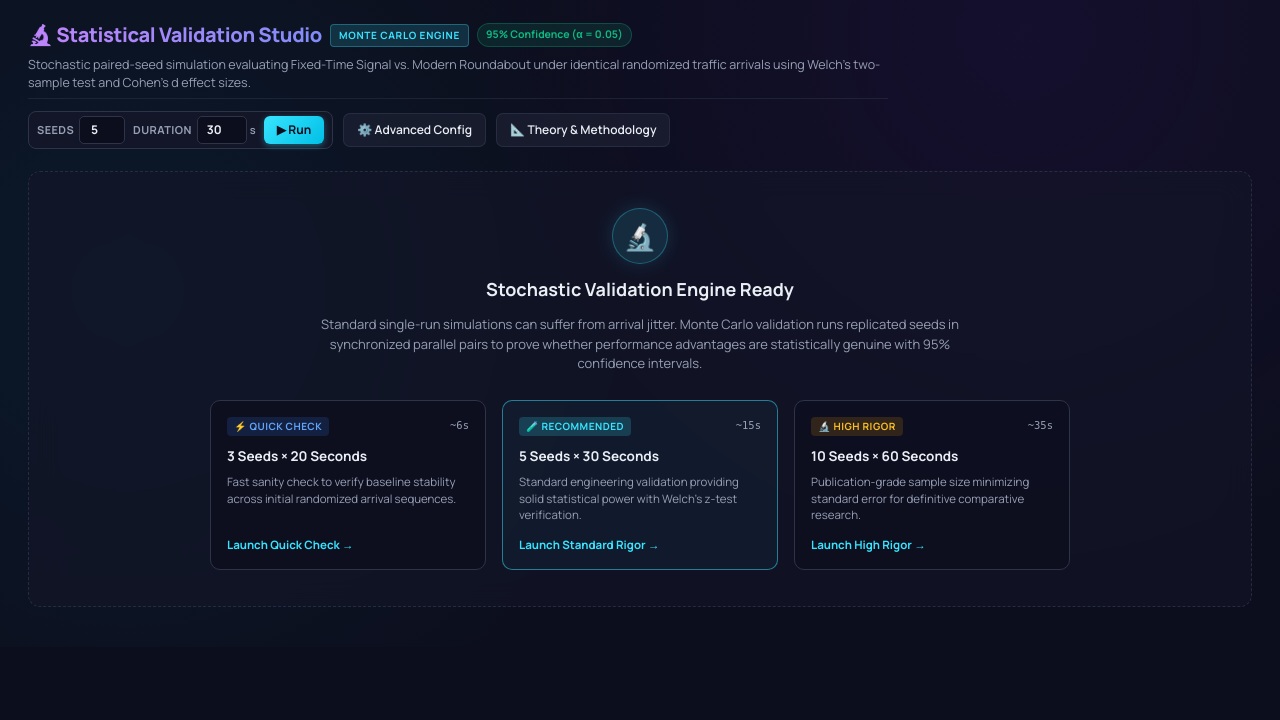
Test: ValidationDashboard › renders per-seed raw results table
This screenshot has width=1280, height=720.
Step 1. Click the button titled "Execute Monte Carlo validation" → (294,130), box [264,116,324,144]
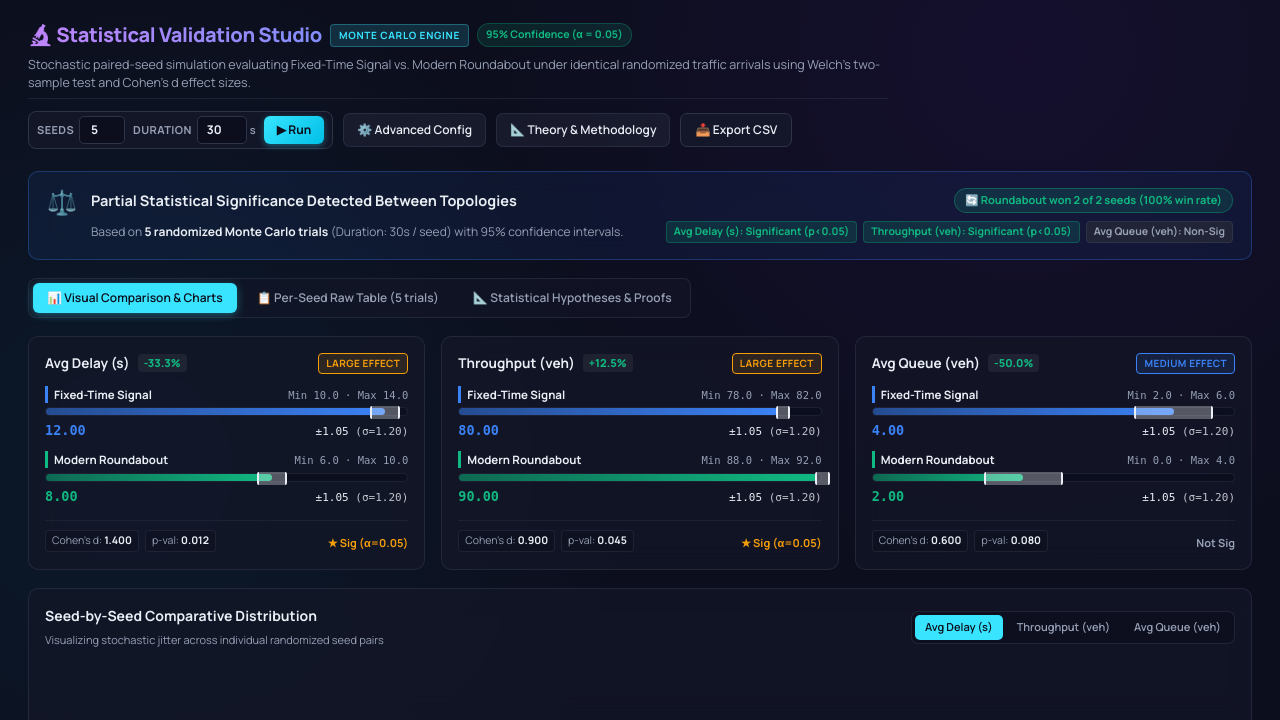
Check: the button "📋 Per-Seed Raw Table (5 trials)" is shown
Step 2. Click the button "📋 Per-Seed Raw Table (5 trials)" → (348,298), box [243,282,453,312]
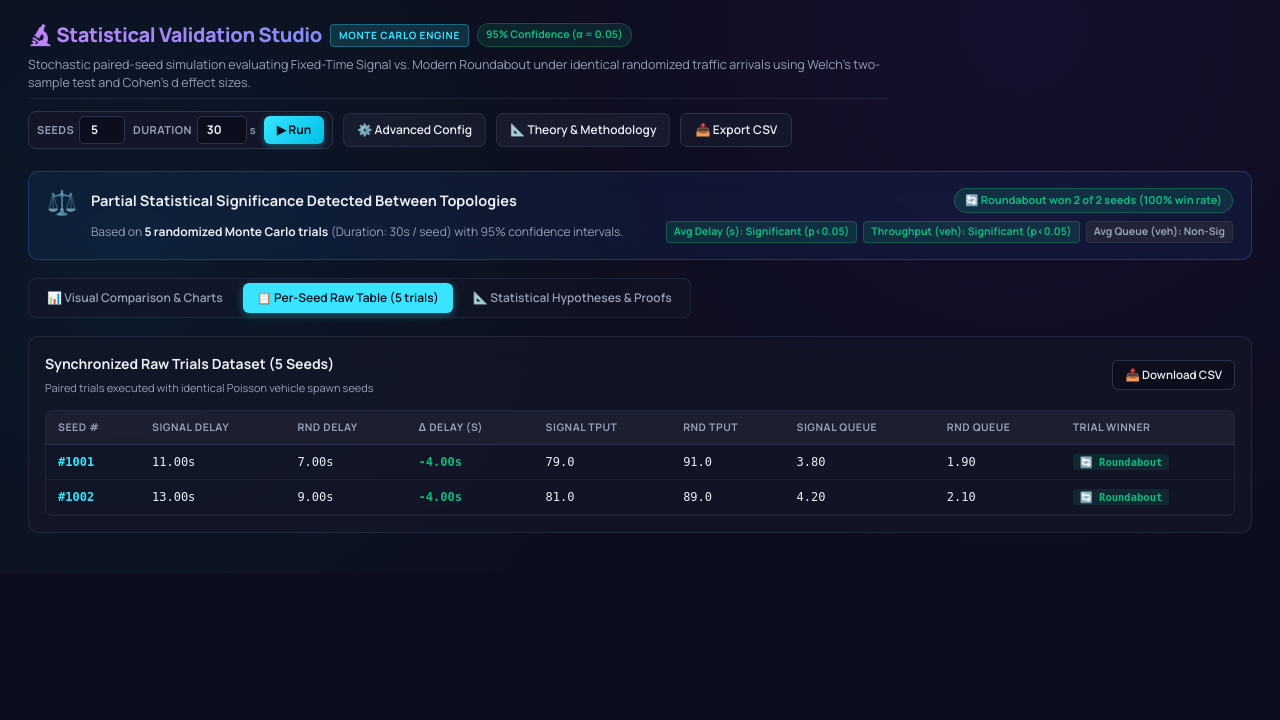
Check: the heading "Synchronized Raw Trials Dataset (5 Seeds)" is shown, box [45,352,374,374]
Check: the text "#1001" is shown, box [58,455,94,469]
Check: the text "#1002" is shown, box [58,490,94,504]
